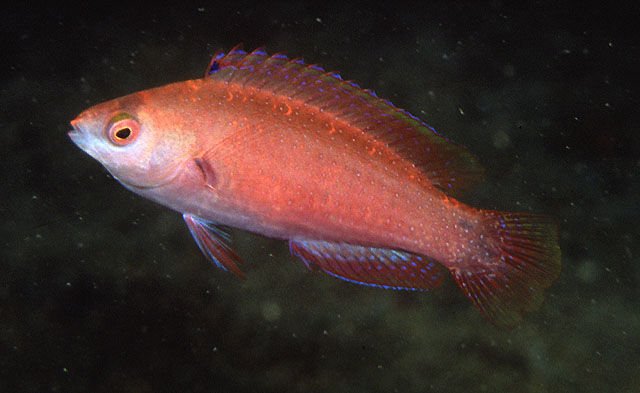fish: (69, 44, 563, 330)
